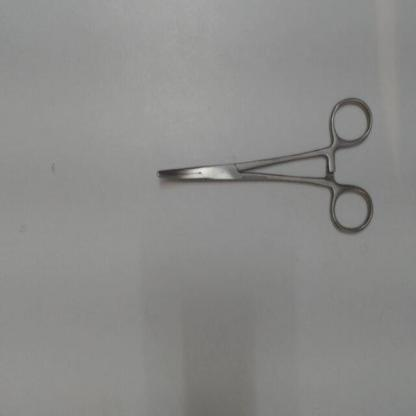Crile Artery Forceps: (145, 88, 381, 244)
